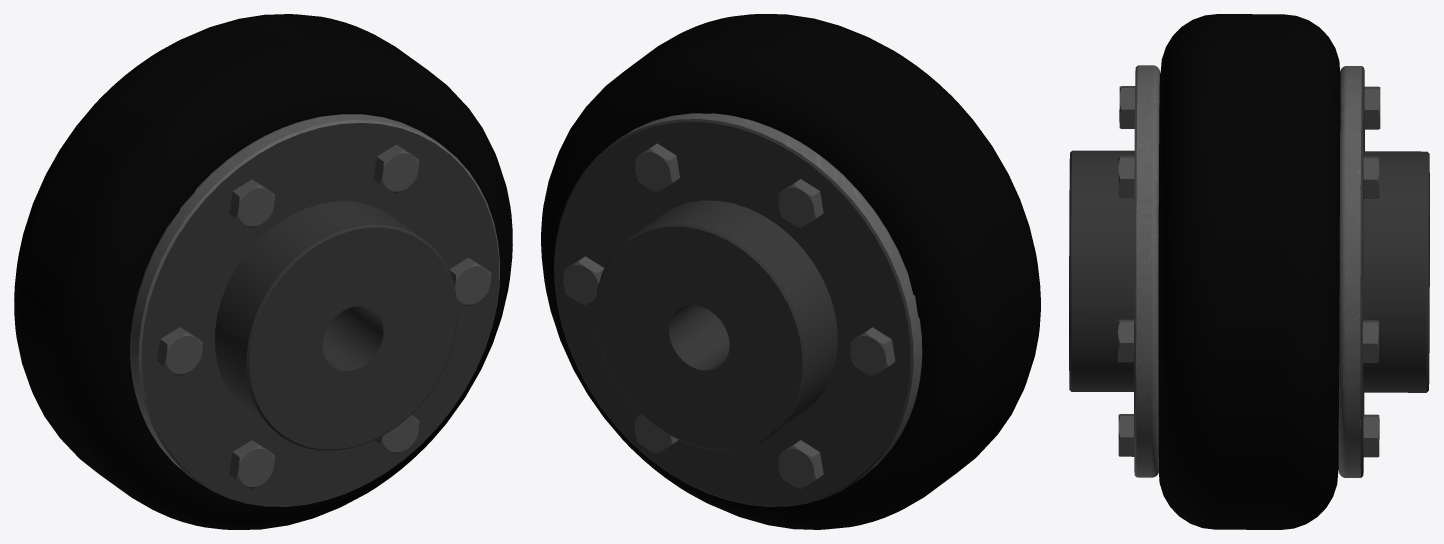
File: tyre coupling.glb
3 views of the same model, side by side, from view 1: azimuth 30°, elevation 25°; view 2: azimuth 150°, elevation 25°; view 3: azimuth 270°, elevation 25° (orthographic).
Visible parts, largest first — view 1: B9_TYRE_COUPLING_HUB001, B9_TYRE_COUPLING_TYRE, TR_Fastenings_Ltd-M12X40MM_M12X40mm008, TR_Fastenings_Ltd-M12X40MM_M12X40mm009, TR_Fastenings_Ltd-M12X40MM_M12X40mm010, TR_Fastenings_Ltd-M12X40MM_M12X40mm011, TR_Fastenings_Ltd-M12X40MM_M12X40mm006, TR_Fastenings_Ltd-M12X40MM_M12X40mm007; view 2: B9_TYRE_COUPLING_HUB, B9_TYRE_COUPLING_TYRE, TR_Fastenings_Ltd-M12X40MM_M12X40mm005, TR_Fastenings_Ltd-M12X40MM_M12X40mm003, TR_Fastenings_Ltd-M12X40MM_M12X40mm004, TR_Fastenings_Ltd-M12X40MM_M12X40mm002, TR_Fastenings_Ltd-M12X40MM_M12X40mm, TR_Fastenings_Ltd-M12X40MM_M12X40mm001; view 3: B9_TYRE_COUPLING_TYRE, B9_TYRE_COUPLING_HUB, B9_TYRE_COUPLING_HUB001, TR_Fastenings_Ltd-M12X40MM_M12X40mm004, TR_Fastenings_Ltd-M12X40MM_M12X40mm001, TR_Fastenings_Ltd-M12X40MM_M12X40mm011, TR_Fastenings_Ltd-M12X40MM_M12X40mm005, TR_Fastenings_Ltd-M12X40MM_M12X40mm, TR_Fastenings_Ltd-M12X40MM_M12X40mm006, TR_Fastenings_Ltd-M12X40MM_M12X40mm007, TR_Fastenings_Ltd-M12X40MM_M12X40mm010.
Part boxes in pixels (x1,y1,x2,y2): B9_TYRE_COUPLING_HUB001: [130, 114, 499, 506]; B9_TYRE_COUPLING_TYRE: [14, 14, 512, 529]; TR_Fastenings_Ltd-M12X40MM_M12X40mm008: [229, 440, 274, 489]; TR_Fastenings_Ltd-M12X40MM_M12X40mm009: [157, 327, 202, 376]; TR_Fastenings_Ltd-M12X40MM_M12X40mm010: [229, 179, 274, 228]; TR_Fastenings_Ltd-M12X40MM_M12X40mm011: [373, 144, 419, 193]; TR_Fastenings_Ltd-M12X40MM_M12X40mm006: [449, 257, 491, 306]; TR_Fastenings_Ltd-M12X40MM_M12X40mm007: [374, 415, 419, 454]; B9_TYRE_COUPLING_HUB: [554, 113, 922, 506]; B9_TYRE_COUPLING_TYRE: [541, 14, 1040, 529]; TR_Fastenings_Ltd-M12X40MM_M12X40mm005: [634, 143, 679, 192]; TR_Fastenings_Ltd-M12X40MM_M12X40mm003: [849, 327, 895, 376]; TR_Fastenings_Ltd-M12X40MM_M12X40mm004: [778, 179, 823, 228]; TR_Fastenings_Ltd-M12X40MM_M12X40mm002: [778, 440, 823, 489]; TR_Fastenings_Ltd-M12X40MM_M12X40mm: [562, 256, 604, 305]; TR_Fastenings_Ltd-M12X40MM_M12X40mm001: [634, 414, 678, 453]; B9_TYRE_COUPLING_TYRE: [1158, 14, 1340, 529]; B9_TYRE_COUPLING_HUB: [1338, 66, 1429, 477]; B9_TYRE_COUPLING_HUB001: [1069, 65, 1160, 477]; TR_Fastenings_Ltd-M12X40MM_M12X40mm004: [1361, 86, 1380, 129]; TR_Fastenings_Ltd-M12X40MM_M12X40mm001: [1360, 414, 1379, 457]; TR_Fastenings_Ltd-M12X40MM_M12X40mm011: [1118, 155, 1134, 198]; TR_Fastenings_Ltd-M12X40MM_M12X40mm005: [1360, 156, 1379, 198]; TR_Fastenings_Ltd-M12X40MM_M12X40mm: [1362, 320, 1378, 362]; TR_Fastenings_Ltd-M12X40MM_M12X40mm006: [1118, 319, 1133, 362]; TR_Fastenings_Ltd-M12X40MM_M12X40mm007: [1118, 414, 1134, 456]; TR_Fastenings_Ltd-M12X40MM_M12X40mm010: [1119, 86, 1135, 128].
Bounding box in the file's own units: 0.2349 × 0.2351 × 0.1645.
5 materials, 1 textured.
